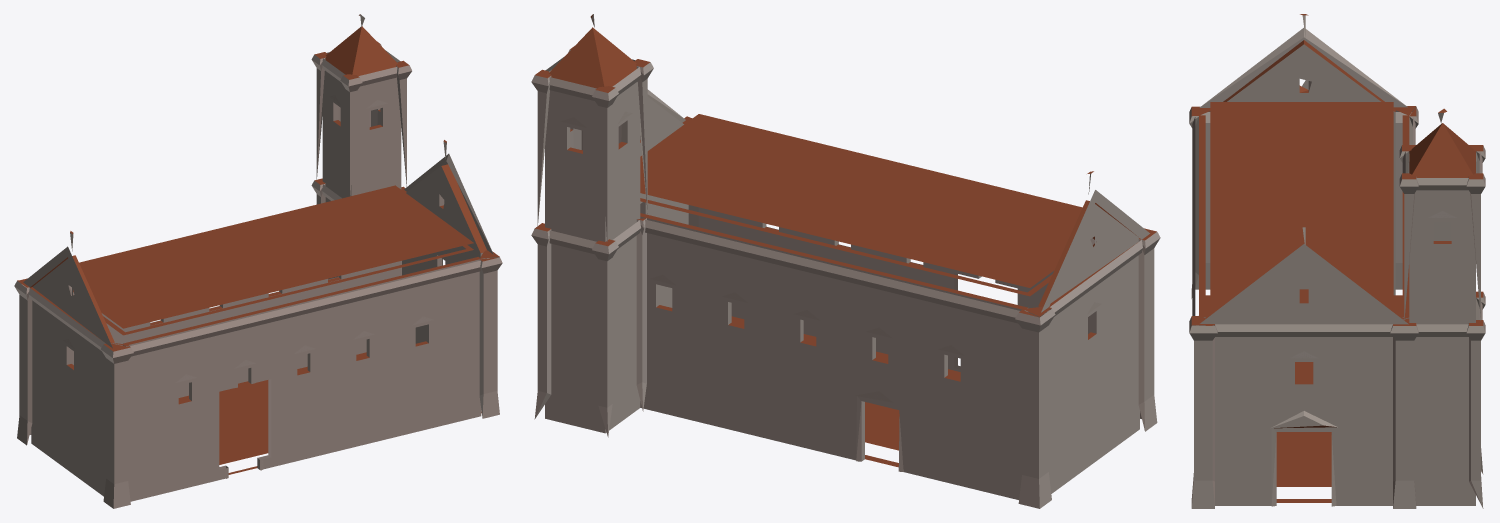
The model's file is chapel.far-facades-v3.lod2.glb.
3 renders of one model, left to right at view 1: azimuth 30°, elevation 25°; view 2: azimuth 150°, elevation 25°; view 3: azimuth 270°, elevation 25°, orthographic. The views are drawn at different scales.
Visible parts, largest first — view 1: chapel; view 2: chapel; view 3: chapel.
Boxes of the visible parts, <box> form: chapel: <box>14,14,502,508</box>; chapel: <box>531,14,1160,508</box>; chapel: <box>1189,14,1485,508</box>.
Size of the model in its own units: 12 by 9.67 by 6.78.
